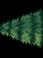Obstacle: (20, 7, 43, 50)
